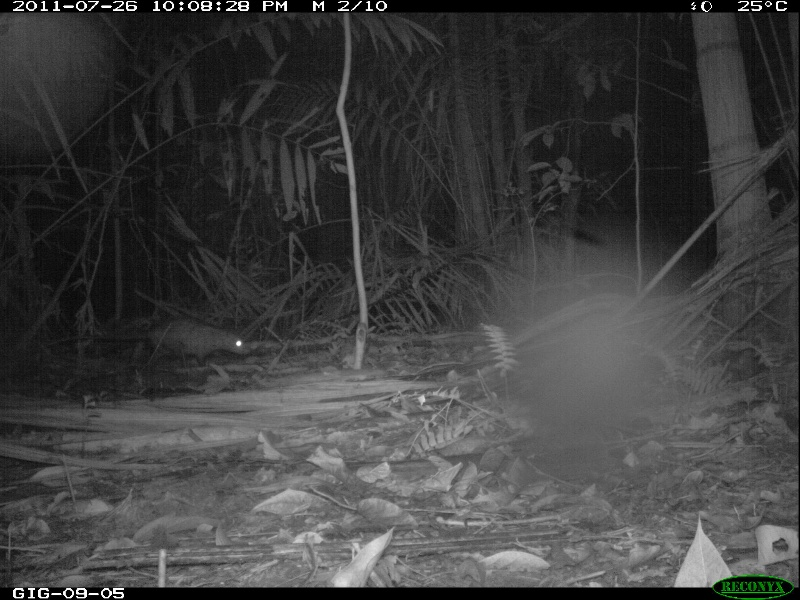opossum: (94, 313, 253, 360)
